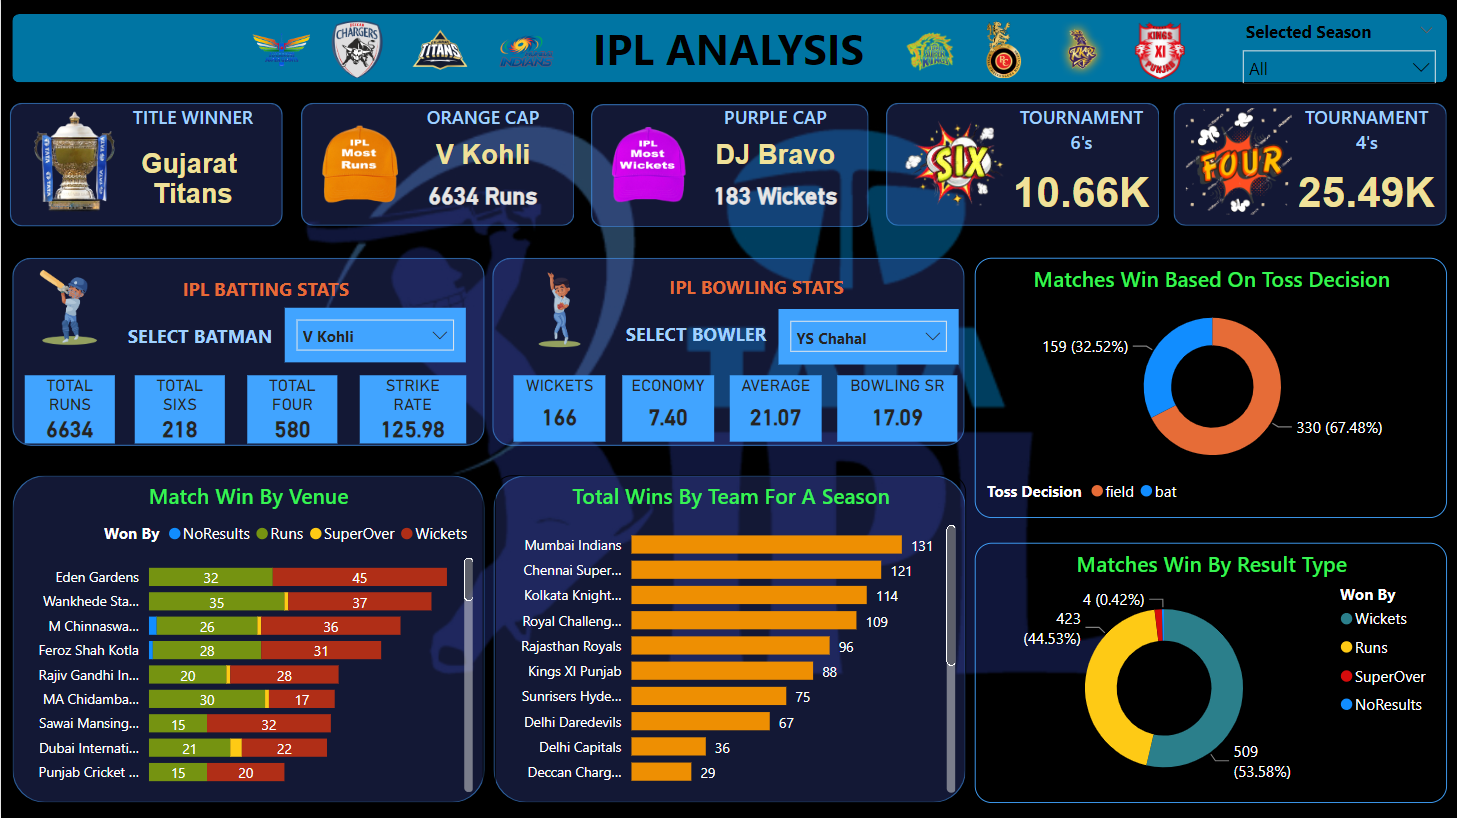

The dashboard page shown, as its layout file describes it:
{"tool":"powerbi","page":{"name":"Page 1","canvas":[1280,720],"ordinal":0},"visuals":[{"type":"shape","box":[9.6,13.7,1261.4,60.3],"z":0},{"type":"shape","box":[9.5,227.3,415.3,165.4],"z":1000},{"type":"textbox","box":[515.5,13.7,263.2,60.3],"z":2000},{"type":"shape","box":[7.5,91.2,240,108.8],"z":3000},{"type":"card","title":"TITLE WINNER","fields":{"Values":["public ipl_matches_2008_2022.TITLE WINNER"]},"box":[87.7,91.9,161.8,108.3],"z":4000},{"type":"shape","box":[264.2,91.6,240.4,108.3],"z":5000},{"type":"shape","box":[518.3,91.9,244,108.3],"z":6000},{"type":"shape","box":[778.3,91.6,240.4,108.3],"z":7000},{"type":"shape","box":[1030.6,91.6,240.4,108.3],"z":8000},{"type":"card","title":"ORANGE CAP","fields":{"Values":["public ipl_ball_by_ball_2008_2022 (2).batter"]},"box":[342.8,91.9,161.8,68.6],"z":9000},{"type":"card","title":"ORANGE CAP","fields":{"Values":["public ipl_ball_by_ball_2008_2022 (2).batter Runs"]},"box":[342.8,146.7,161.8,53.5],"z":10000},{"type":"card","title":"PURPLE CAP","fields":{"Values":["public ipl_ball_by_ball_2008_2022 (2).bowler"]},"box":[600.5,91.9,161.8,68.6],"z":11000},{"type":"shape","box":[432,227.3,415.3,165.4],"z":12000},{"type":"card","title":"PURPLE CAP","fields":{"Values":["public ipl_ball_by_ball_2008_2022 (2).bowler Wickets"]},"box":[600.5,146.7,161.8,53.5],"z":13000},{"type":"textbox","box":[93.2,279.7,163.2,31.5],"z":14000},{"type":"card","title":"TOURNAMENT 6''s","fields":{"Values":["public ipl_ball_by_ball_2008_2022 (2).batsman_run"]},"box":[881.6,91.9,137.1,108.3],"z":15000},{"type":"card","title":"TOURNAMENT 4''s","fields":{"Values":["public ipl_ball_by_ball_2008_2022 (2).batsman_run"]},"box":[1131.1,91.9,139.8,108.3],"z":16000},{"type":"slicer","fields":{"Values":["public ipl_ball_by_ball_2008_2022 (2).batter"]},"box":[249.5,271.5,159,48],"z":17000},{"type":"card","title":"TOTAL RUNS","fields":{"Values":["public ipl_ball_by_ball_2008_2022 (2).batsman_run"]},"box":[20.6,330.4,79.5,60.3],"z":18000},{"type":"card","title":"TOTAL FOUR","fields":{"Values":["public ipl_ball_by_ball_2008_2022 (2).batsman_run"]},"box":[216.6,330.4,79.5,60.3],"z":19000},{"type":"card","title":"TOTAL SIXS","fields":{"Values":["public ipl_ball_by_ball_2008_2022 (2).batsman_run"]},"box":[117.9,330.4,79.5,60.3],"z":20000},{"type":"card","title":"STRIKE RATE","fields":{"Values":["public ipl_ball_by_ball_2008_2022 (2).Strike Rate for batsman"]},"box":[315.3,330.4,93.2,60.3],"z":21000},{"type":"textbox","box":[150.8,238.6,164.5,32.9],"z":22000},{"type":"slicer","fields":{"Values":["public ipl_ball_by_ball_2008_2022 (2).bowler"]},"box":[683.1,272.5,158.3,48.8],"z":23000},{"type":"textbox","box":[532,278.5,158.3,33.3],"z":24000},{"type":"card","title":"WICKETS","fields":{"Values":["public ipl_ball_by_ball_2008_2022 (2).iswicket_delivery"]},"box":[451,330.8,80.9,58.3],"z":25000},{"type":"card","title":"ECONOMY","fields":{"Values":["public ipl_ball_by_ball_2008_2022 (2).Economy"]},"box":[546.2,330.8,80.9,58.3],"z":26000},{"type":"card","title":"AVERAGE","fields":{"Values":["public ipl_ball_by_ball_2008_2022 (2).Average by bowler"]},"box":[640.3,330.8,80.9,58.3],"z":27000},{"type":"card","title":"BOWLING SR","fields":{"Values":["public ipl_ball_by_ball_2008_2022 (2).Bowling SR"]},"box":[735.5,330.8,105.9,58.3],"z":28000},{"type":"textbox","box":[570.4,237.2,187.8,34.3],"z":29000},{"type":"donutChart","title":"Matches Win Based On Toss Decision","fields":{"Y":["public ipl_matches_2008_2022.Matches ein on toss decision"],"Category":["public ipl_matches_2008_2022.toss_decision"]},"box":[855.7,227.3,415.3,228.5],"z":30000},{"type":"donutChart","title":"Matches Win By Result Type","fields":{"Category":["public ipl_matches_2008_2022.won_by"],"Y":["public ipl_matches_2008_2022.id"]},"box":[855.7,478.4,415.3,228.5],"z":31000},{"type":"shape","box":[9.5,418.9,415.3,288],"z":32000},{"type":"shape","box":[433.2,418.9,415.3,288],"z":33000},{"type":"barChart","title":"Match Win By Venue","fields":{"Category":["public ipl_matches_2008_2022.venue"],"Y":["public ipl_matches_2008_2022.id"],"Series":["public ipl_matches_2008_2022.won_by"]},"box":[9.5,418.9,414.1,288],"z":34000},{"type":"barChart","title":"Total Wins By Team For A Season","fields":{"Category":["public ipl_matches_2008_2022.winning_team"],"Y":["public ipl_matches_2008_2022.winning_team"]},"box":[434.4,418.9,414.1,288],"z":35000},{"type":"slicer","title":"Selected Year","fields":{"Values":["Calender Table.Year"]},"box":[1081.6,13.2,190.2,60.5],"z":36000},{"type":"image","box":[275,101.2,82.5,88.8],"z":37000},{"type":"image","box":[528.8,105,82.5,81.2],"z":38000},{"type":"image","box":[10,91.2,107.5,108.8],"z":39000},{"type":"image","box":[1030,91.2,116.2,108.8],"z":40000},{"type":"image","box":[778.8,91.2,120,108.8],"z":41000},{"type":"image","box":[1.2,213.8,116.2,113.8],"z":42000},{"type":"image","box":[432.5,216.2,116.2,113.8],"z":43000},{"type":"image","box":[788.8,15,55,61.2],"z":44000},{"type":"image","box":[432.5,13.8,57.5,60],"z":45000},{"type":"image","box":[357.5,13.8,57.5,60],"z":46000},{"type":"image","box":[852.5,13.8,57.5,60],"z":47000},{"type":"image","box":[283.8,13.8,58.8,60],"z":48000},{"type":"image","box":[920,13.8,61.2,60],"z":49000},{"type":"image","box":[991.2,15,55,60],"z":50000},{"type":"image","box":[216.2,13.8,60,60],"z":51000}]}

Visuals, with their boxes in screenshot pixels (x1, y1, x2, y2), scaled from the page's 1280x720 canvas onto the 1457x818 screenshot:
shape: region(11, 16, 1447, 84)
shape: region(11, 258, 484, 446)
textbox: region(587, 16, 886, 84)
shape: region(9, 104, 282, 227)
"TITLE WINNER" card: region(100, 104, 284, 227)
shape: region(301, 104, 574, 227)
shape: region(590, 104, 868, 227)
shape: region(886, 104, 1160, 227)
shape: region(1173, 104, 1447, 227)
"ORANGE CAP" card: region(390, 104, 574, 182)
"ORANGE CAP" card: region(390, 167, 574, 227)
"PURPLE CAP" card: region(684, 104, 868, 182)
shape: region(492, 258, 964, 446)
"PURPLE CAP" card: region(684, 167, 868, 227)
textbox: region(106, 318, 292, 354)
"TOURNAMENT 6''s" card: region(1004, 104, 1160, 227)
"TOURNAMENT 4''s" card: region(1288, 104, 1447, 227)
slicer - public ipl_ball_by_ball_2008_2022 (2).batter: region(284, 308, 465, 363)
"TOTAL RUNS" card: region(23, 375, 114, 444)
"TOTAL FOUR" card: region(247, 375, 337, 444)
"TOTAL SIXS" card: region(134, 375, 225, 444)
"STRIKE RATE" card: region(359, 375, 465, 444)
textbox: region(172, 271, 359, 308)
slicer - public ipl_ball_by_ball_2008_2022 (2).bowler: region(778, 310, 958, 365)
textbox: region(606, 316, 786, 354)
"WICKETS" card: region(513, 376, 605, 442)
"ECONOMY" card: region(622, 376, 714, 442)
"AVERAGE" card: region(729, 376, 821, 442)
"BOWLING SR" card: region(837, 376, 958, 442)
textbox: region(649, 269, 863, 308)
"Matches Win Based On Toss Decision" donutChart: region(974, 258, 1447, 518)
"Matches Win By Result Type" donutChart: region(974, 544, 1447, 803)
shape: region(11, 476, 484, 803)
shape: region(493, 476, 966, 803)
"Match Win By Venue" barChart: region(11, 476, 482, 803)
"Total Wins By Team For A Season" barChart: region(494, 476, 966, 803)
"Selected Year" slicer: region(1231, 15, 1448, 84)
image: region(313, 115, 407, 216)
image: region(602, 119, 696, 212)
image: region(11, 104, 134, 227)
image: region(1172, 104, 1305, 227)
image: region(886, 104, 1023, 227)
image: region(1, 243, 134, 372)
image: region(492, 246, 625, 375)
image: region(898, 17, 960, 87)
image: region(492, 16, 558, 84)
image: region(407, 16, 472, 84)
image: region(970, 16, 1036, 84)
image: region(323, 16, 390, 84)
image: region(1047, 16, 1117, 84)
image: region(1128, 17, 1191, 85)
image: region(246, 16, 314, 84)
